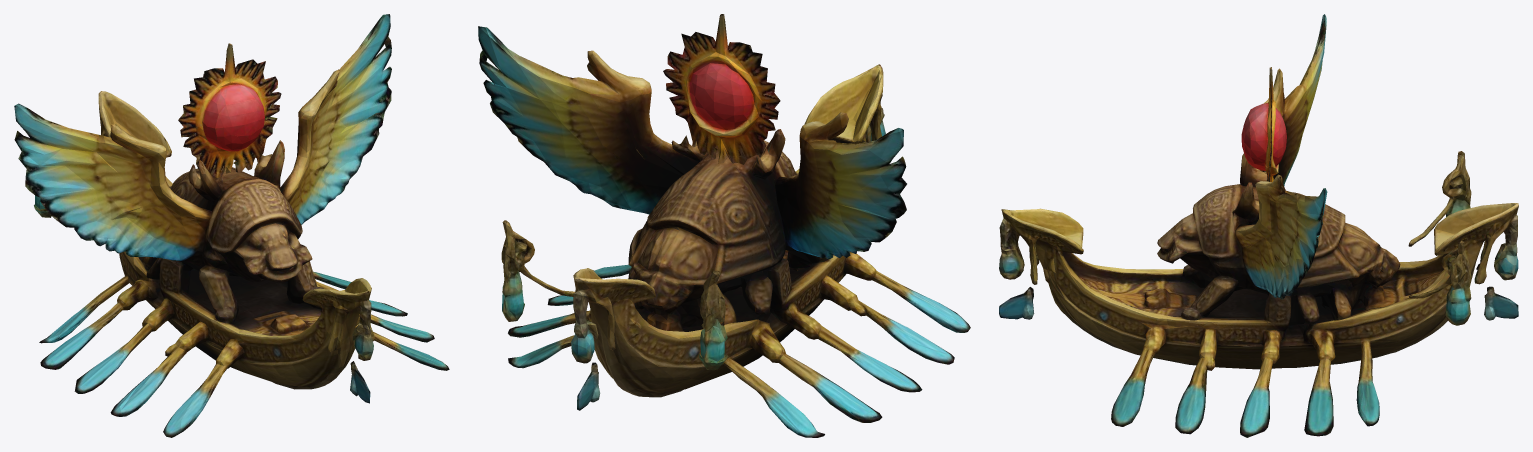
Rendered from solenne__solarBarque.glb.
The picture shows the model from 3 angles, left to right: view 1: azimuth 30°, elevation 25°; view 2: azimuth 150°, elevation 25°; view 3: azimuth 270°, elevation 25°; orthographic projection. The views are drawn at different scales.
Visible parts, largest first — view 1: world; view 2: world; view 3: world.
Boxes of the visible parts, left/top/right/bottom form: world: left=14, top=14, right=449, bottom=437; world: left=478, top=14, right=970, bottom=437; world: left=999, top=14, right=1518, bottom=437.
Bounding box in the file's own units: 0.8116 × 0.6346 × 0.9998.
Materials: 1 (1 with a texture image).
